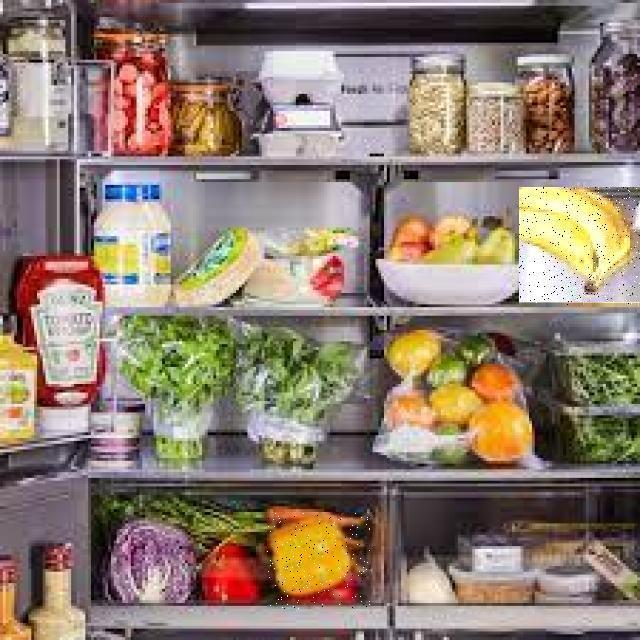Banana: (519, 188, 640, 306)
Bell Peppers: (267, 513, 371, 609)
